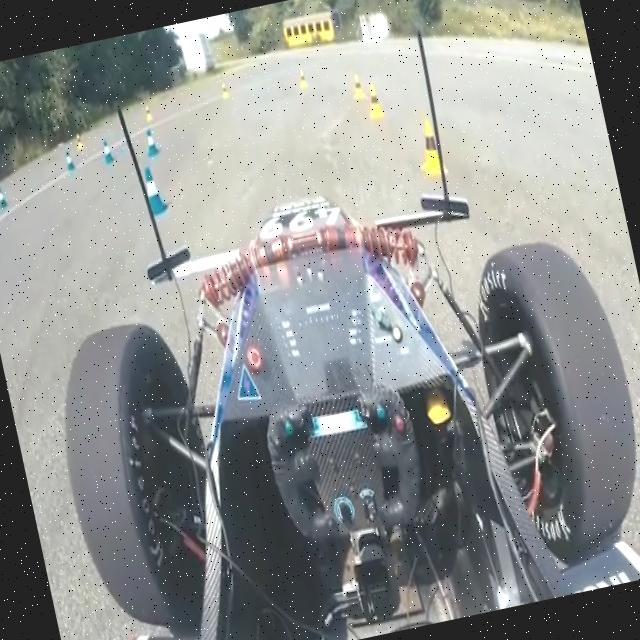blue_cone: (138, 163, 170, 218), (142, 127, 161, 158), (100, 138, 116, 164)
yellow_cone: (410, 114, 449, 178), (362, 82, 386, 121), (348, 69, 367, 101)
